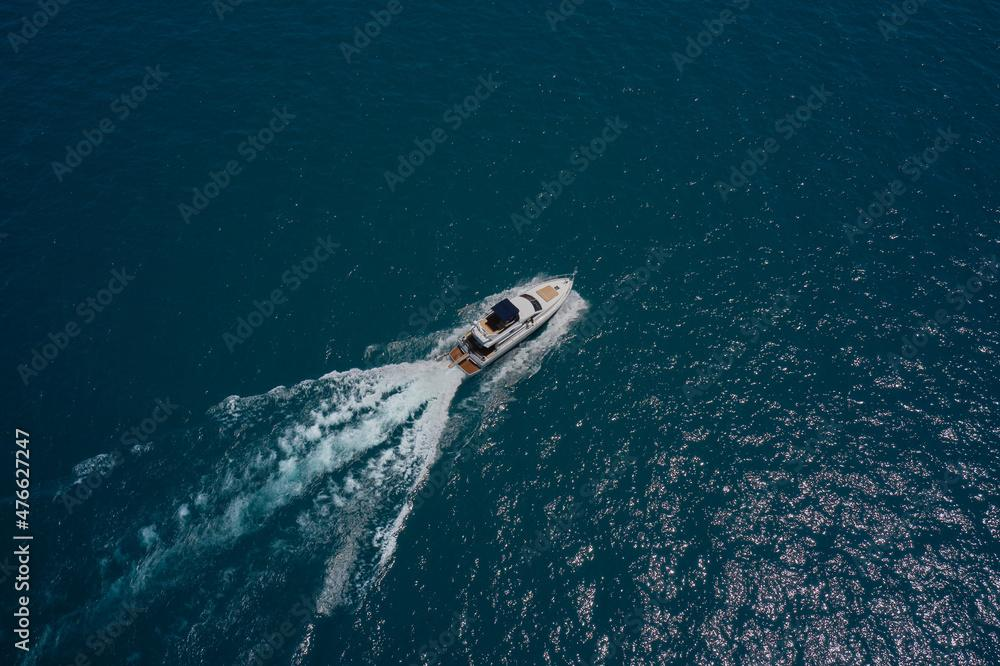Ship: (444, 248, 580, 375)
